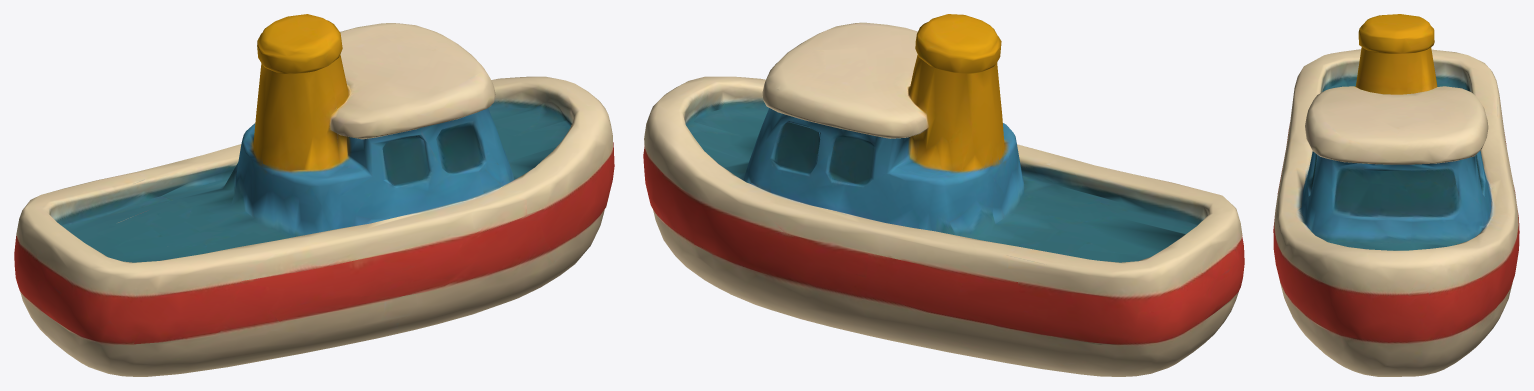
Rendered from boat.glb.
3 renders of one model, left to right at view 1: azimuth 30°, elevation 25°; view 2: azimuth 150°, elevation 25°; view 3: azimuth 270°, elevation 25°, orthographic. The views are drawn at different scales.
Visible parts, largest first — view 1: boat-body; view 2: boat-body; view 3: boat-body.
Part boxes in pixels (box(x1,y1,x2,y2)): boat-body: box(14, 14, 614, 376); boat-body: box(643, 14, 1244, 376); boat-body: box(1273, 14, 1519, 376).
Size of the model in its own units: 1 by 0.5027 by 0.4369.
Materials: 1 (1 with a texture image).
